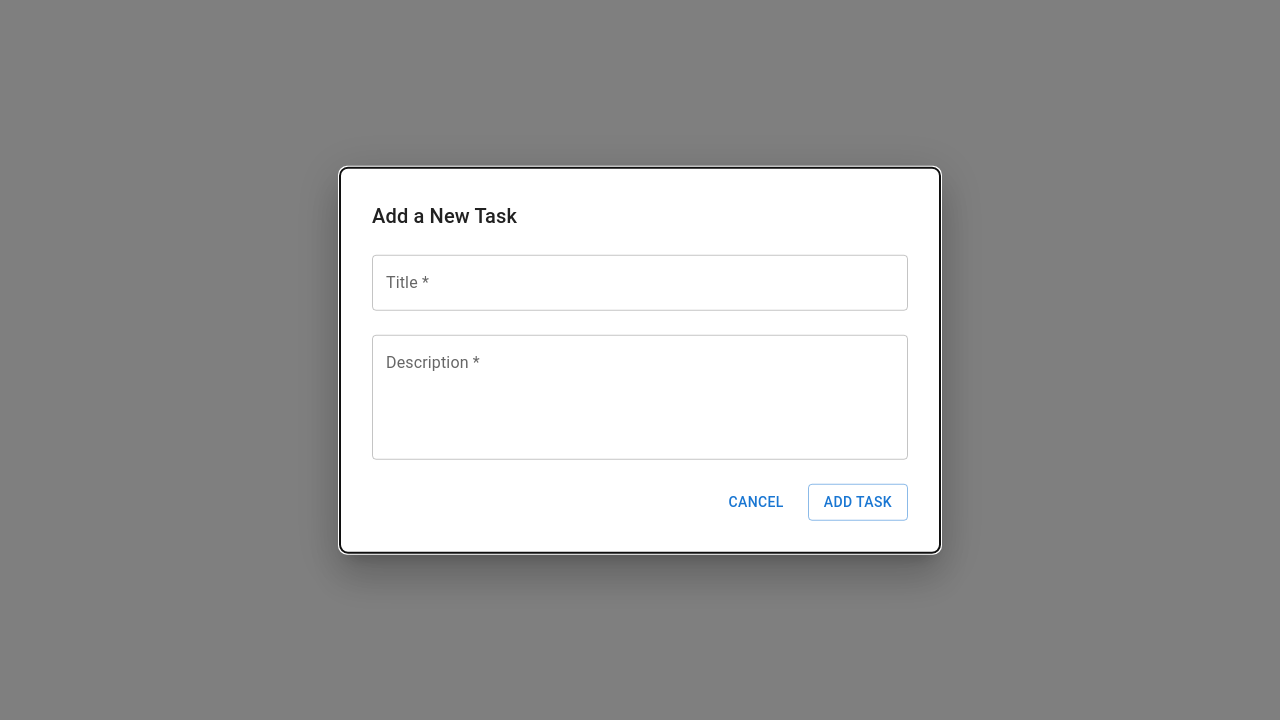
Test: TaskModal › shows validation error for duplicate task title
Type "Duplicate Task" into the field labelled "Title *" at x=640, y=283, box [372,255,908,311]
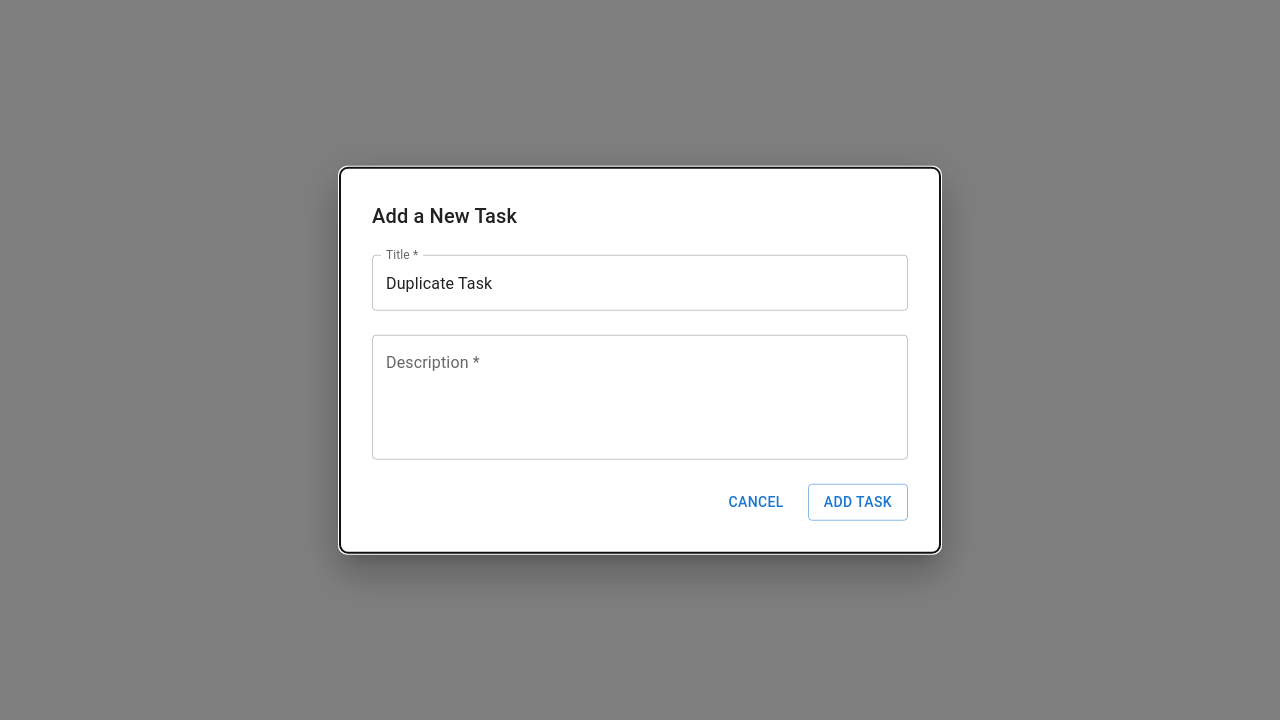
Click the button "Add Task" at x=858, y=502, box [808,484,908,520]
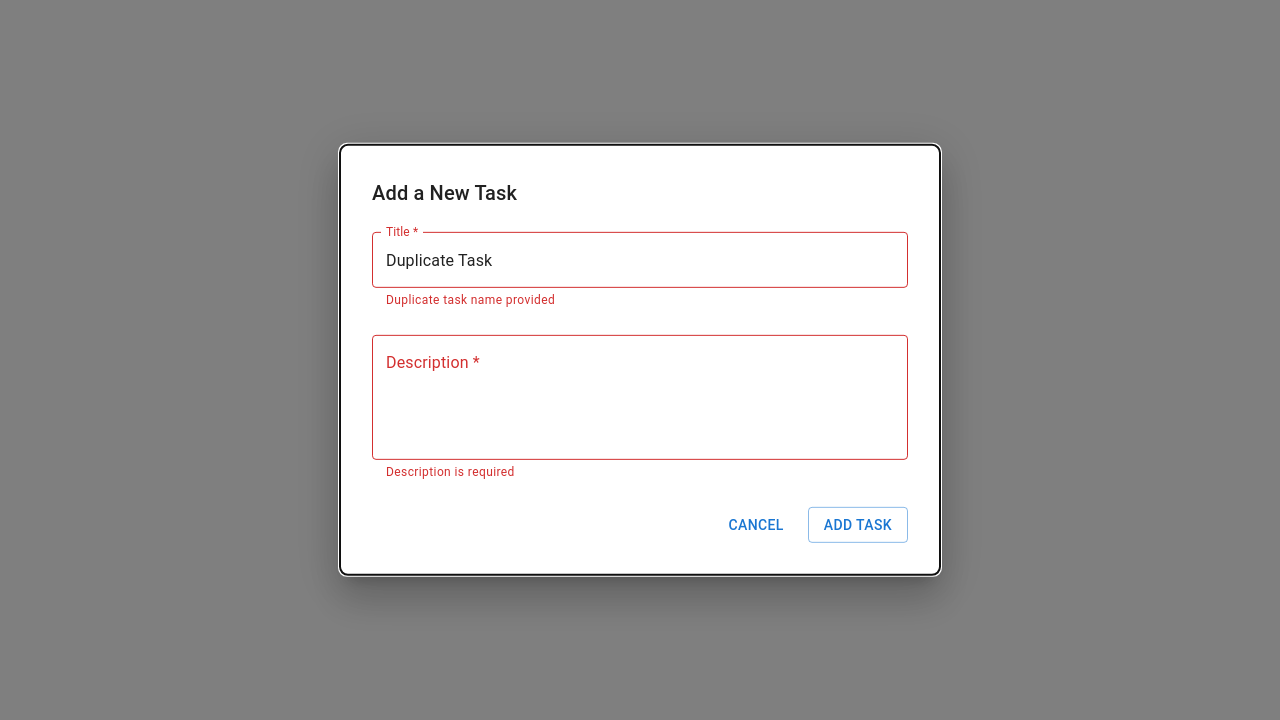
Expected: the text "Duplicate task name provided" is shown, [386,293,555,307]
